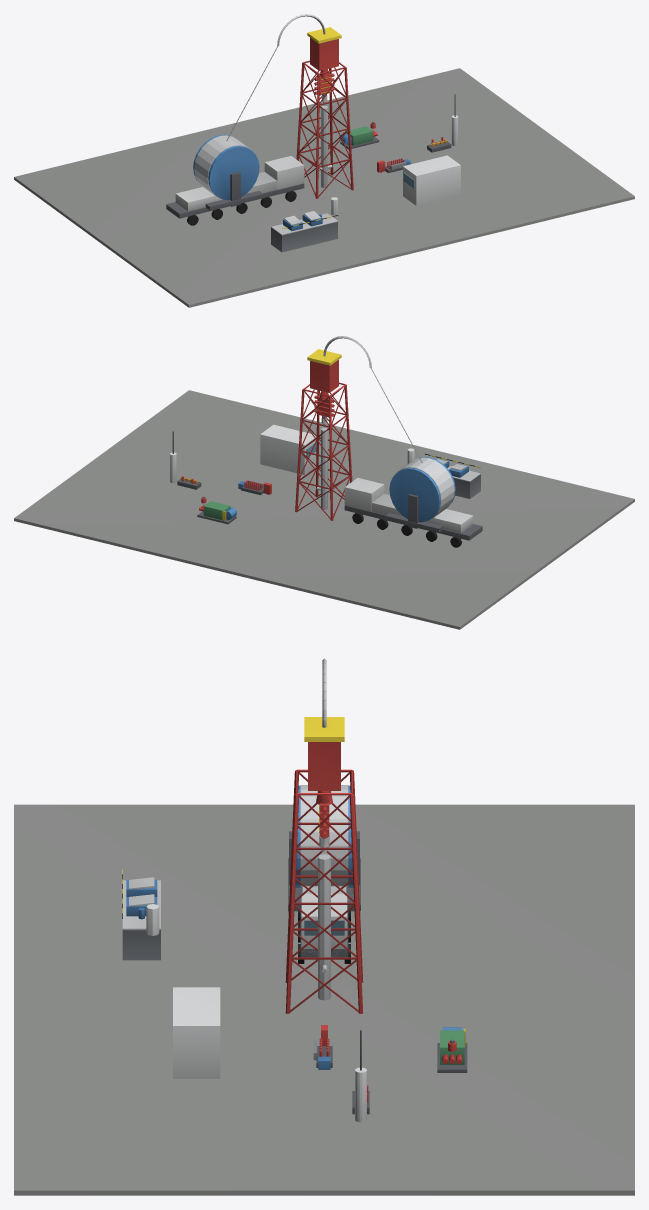
Rendered from ctu_med.glb.
The picture shows the model from 3 angles, top to bottom: view 1: azimuth 30°, elevation 25°; view 2: azimuth 150°, elevation 25°; view 3: azimuth 270°, elevation 25°; orthographic projection. The views are drawn at different scales.
Parts seen in each view (by area): view 1: site__pad, drawworks__drum, carrier__truck, mast__mast, carrier__control, mudtanks__tanks, topdrive__motor, bop__wellhead.001, mudpumps__powerend, mudtanks__solids, drawworks__skid; view 2: site__pad, drawworks__drum, carrier__truck, mast__mast, carrier__control, topdrive__motor, mudtanks__tanks, bop__wellhead.001, mudpumps__powerend, drawworks__skid; view 3: site__pad, mast__mast, carrier__control, drawworks__drum, topdrive__motor, carrier__truck, mudtanks__tanks, bop__wellhead.001, mudpumps__powerend, mudtanks__solids.
Boxes of the visible parts, bbox=[...] form: site__pad: bbox=[14, 68, 634, 307]; drawworks__drum: bbox=[193, 134, 259, 206]; carrier__truck: bbox=[166, 156, 304, 225]; mast__mast: bbox=[296, 60, 353, 198]; carrier__control: bbox=[403, 155, 460, 205]; mudtanks__tanks: bbox=[271, 213, 338, 252]; topdrive__motor: bbox=[307, 27, 341, 70]; bop__wellhead.001: bbox=[318, 106, 332, 187]; mudpumps__powerend: bbox=[340, 126, 379, 149]; mudtanks__solids: bbox=[283, 211, 322, 230]; drawworks__skid: bbox=[205, 191, 263, 210]; site__pad: bbox=[14, 390, 634, 629]; drawworks__drum: bbox=[389, 456, 455, 528]; carrier__truck: bbox=[344, 478, 482, 547]; mast__mast: bbox=[295, 382, 352, 520]; carrier__control: bbox=[260, 424, 316, 474]; topdrive__motor: bbox=[307, 349, 341, 392]; mudtanks__tanks: bbox=[425, 454, 480, 498]; bop__wellhead.001: bbox=[316, 428, 330, 509]; mudpumps__powerend: bbox=[197, 501, 236, 524]; drawworks__skid: bbox=[385, 513, 443, 532]; site__pad: bbox=[14, 804, 634, 1195]; mast__mast: bbox=[285, 769, 363, 1013]; carrier__control: bbox=[173, 987, 220, 1078]; drawworks__drum: bbox=[289, 785, 359, 888]; topdrive__motor: bbox=[304, 717, 344, 790]; carrier__truck: bbox=[298, 886, 350, 963]; mudtanks__tanks: bbox=[122, 869, 160, 960]; bop__wellhead.001: bbox=[318, 854, 330, 1000]; mudpumps__powerend: bbox=[437, 1030, 467, 1072]; mudtanks__solids: bbox=[126, 877, 157, 916].
Size of the model in its own units: 50 by 19.32 by 34.
